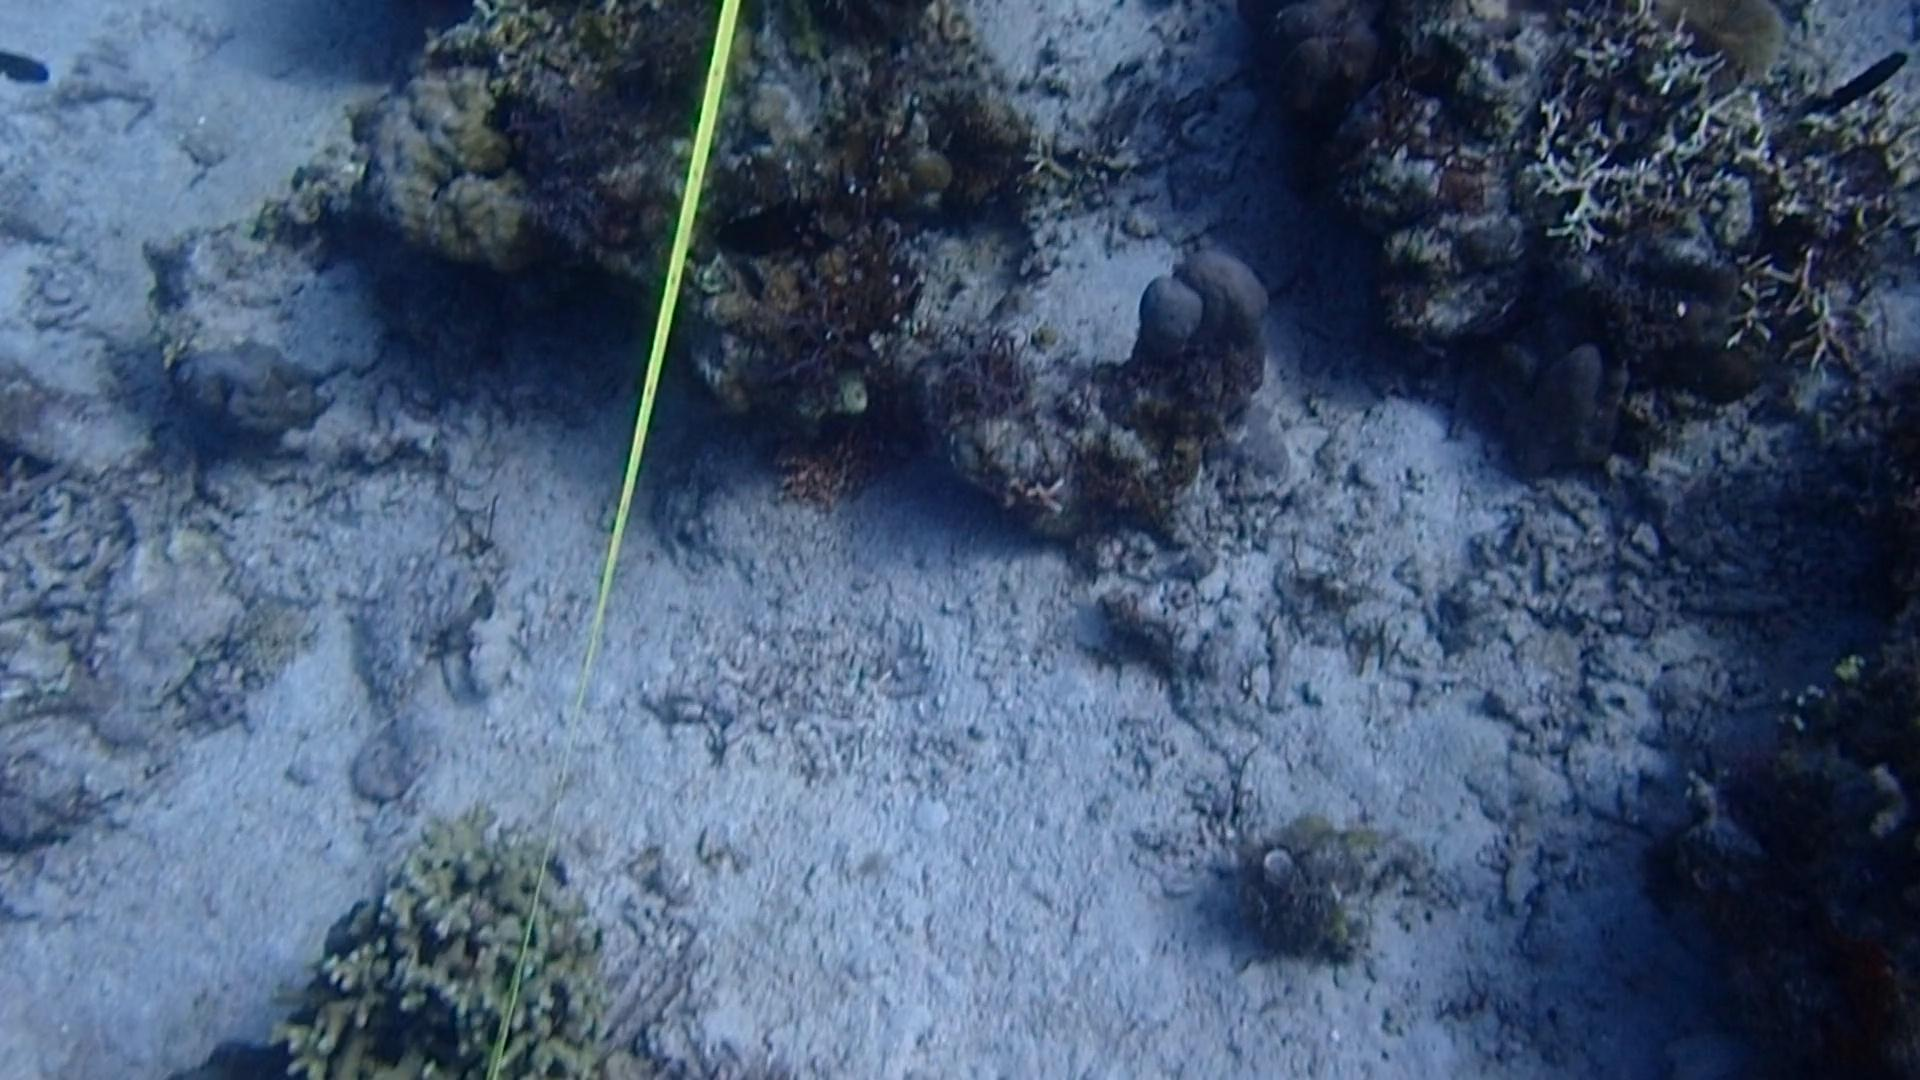Dark Fish: (694, 195, 847, 274), (1793, 44, 1920, 132), (0, 44, 62, 98)
